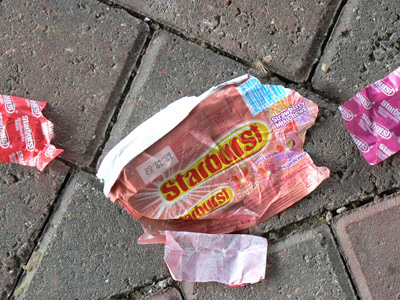litter: (96, 72, 335, 289), (338, 64, 399, 164)
